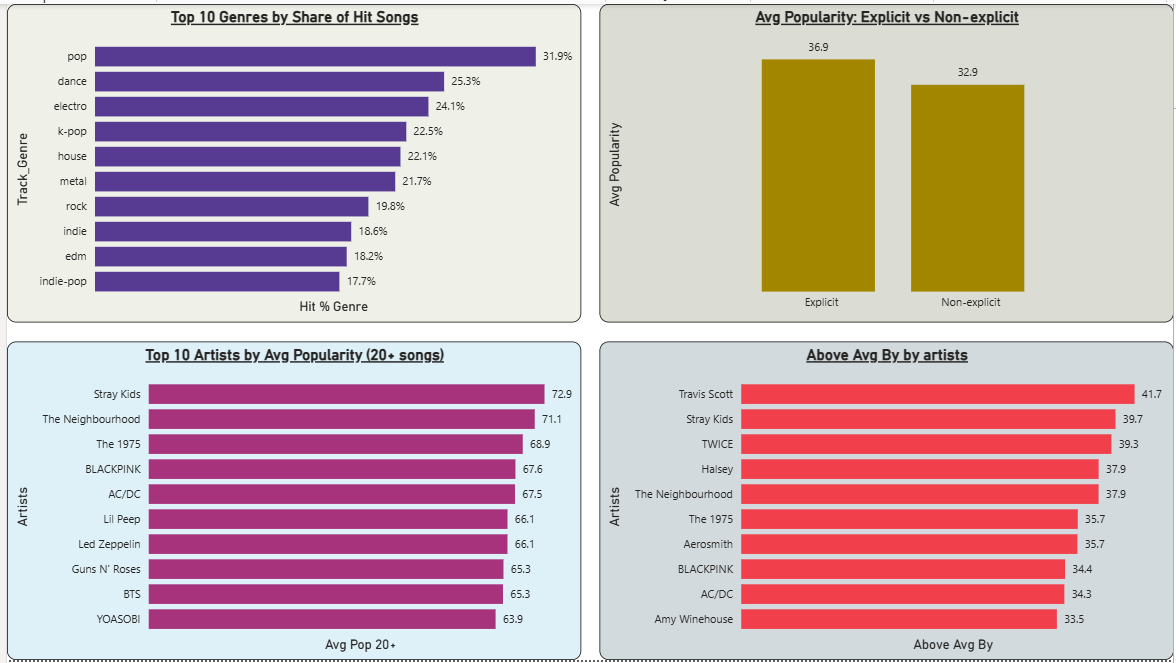

The page's visual inventory and layout, read from the dashboard file:
{"tool":"powerbi","page":{"name":"Genres & Artists","canvas":[1280,720],"ordinal":1},"visuals":[{"type":"clusteredBarChart","title":"Top 10 Genres by Share of Hit Songs","fields":{"Category":["tracks.track_genre"],"Y":["tracks_unique.Hit % Genre"]},"box":[0,0,630,349.9],"z":0},{"type":"clusteredColumnChart","title":"Avg Popularity: Explicit vs Non-explicit","fields":{"Category":["tracks_unique.Explicit Label"],"Y":["tracks_unique.Avg Pop"]},"box":[650.4,0,630,349.9],"z":1000},{"type":"clusteredBarChart","title":"Top 10 Artists by Avg Popularity (20+ songs)","fields":{"Category":["tracks_unique.artists"],"Y":["tracks_unique.Avg Pop 20+"]},"box":[0,370.5,630,349.9],"z":2000},{"type":"clusteredBarChart","fields":{"Category":["tracks_unique.artists"],"Y":["tracks_unique.Above Avg By"]},"box":[650.4,370.5,630,349.9],"z":3000}]}

Visuals, with their boxes in screenshot pixels (x1, y1, x2, y2), scaled from the page's 1280x720 canvas onto the 1176x663 screenshot:
"Top 10 Genres by Share of Hit Songs" clusteredBarChart: <region>0, 0, 579, 322</region>
"Avg Popularity: Explicit vs Non-explicit" clusteredColumnChart: <region>598, 0, 1175, 322</region>
"Top 10 Artists by Avg Popularity (20+ songs)" clusteredBarChart: <region>0, 341, 579, 662</region>
clusteredBarChart - tracks_unique.artists x tracks_unique.Above Avg By: <region>598, 341, 1175, 662</region>
